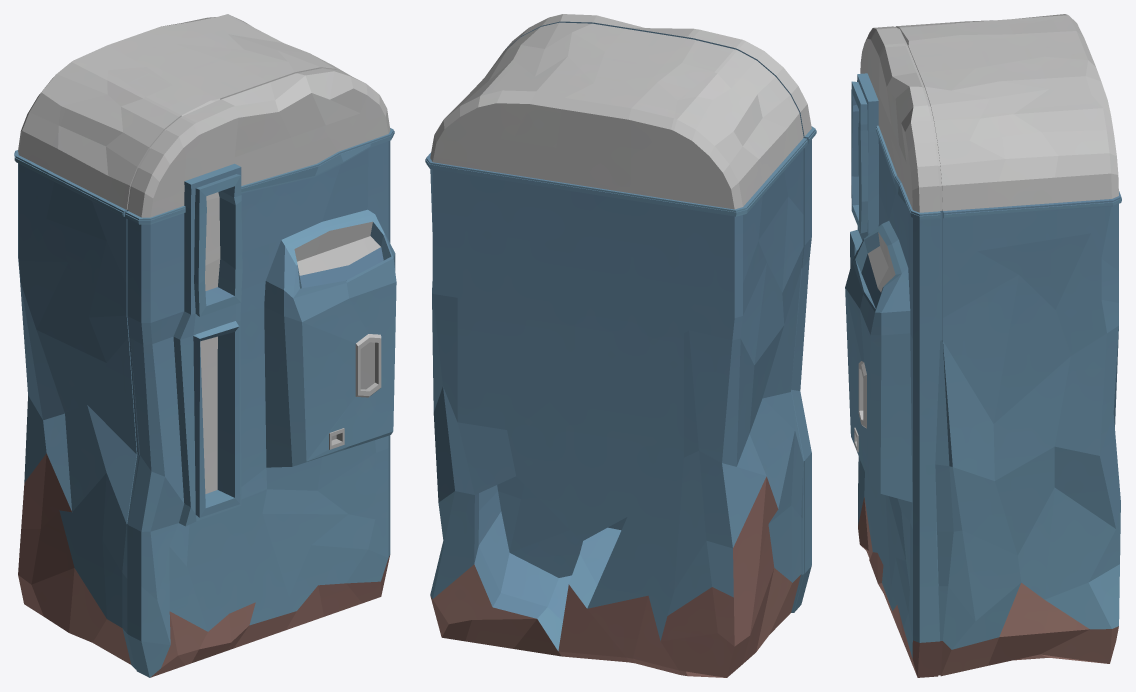
The model's file is soda_vending_machine.glb.
3 renders of one model, left to right at view 1: azimuth 30°, elevation 25°; view 2: azimuth 150°, elevation 25°; view 3: azimuth 270°, elevation 25°, orthographic. The views are drawn at different scales.
Parts seen in each view (by area): view 1: soda_vending_machine; view 2: soda_vending_machine; view 3: soda_vending_machine.
Boxes of the visible parts, box(x1,y1,x2,y2) form: soda_vending_machine: box(14, 14, 396, 677); soda_vending_machine: box(425, 14, 816, 677); soda_vending_machine: box(845, 14, 1121, 677).
Bounding box in the file's own units: 0.8843 × 1.47 × 0.6688.
Materials: 1 (1 with a texture image).
